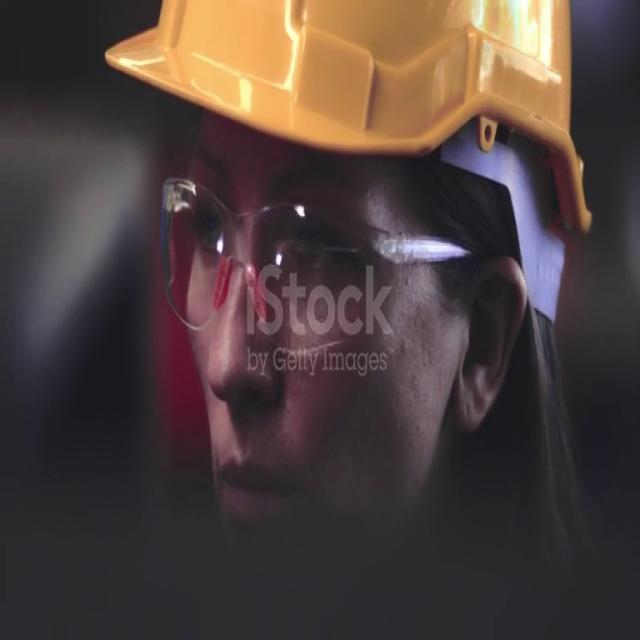capacete: (79, 0, 600, 261)
